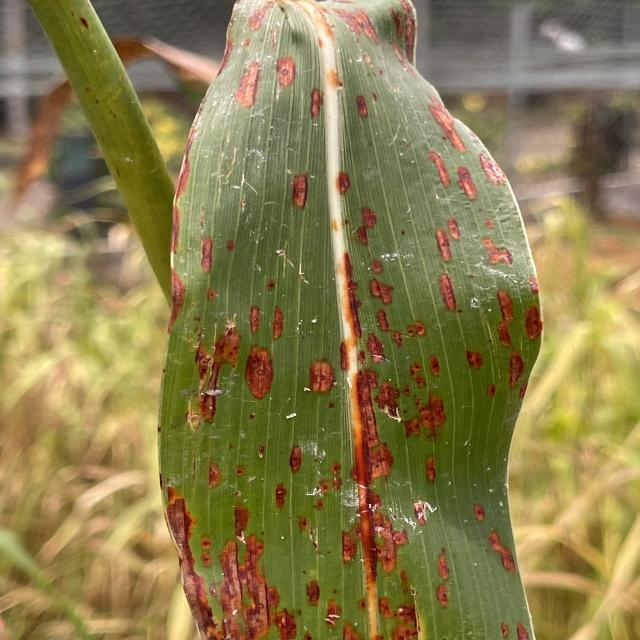millet_rust: (151, 0, 548, 640)
